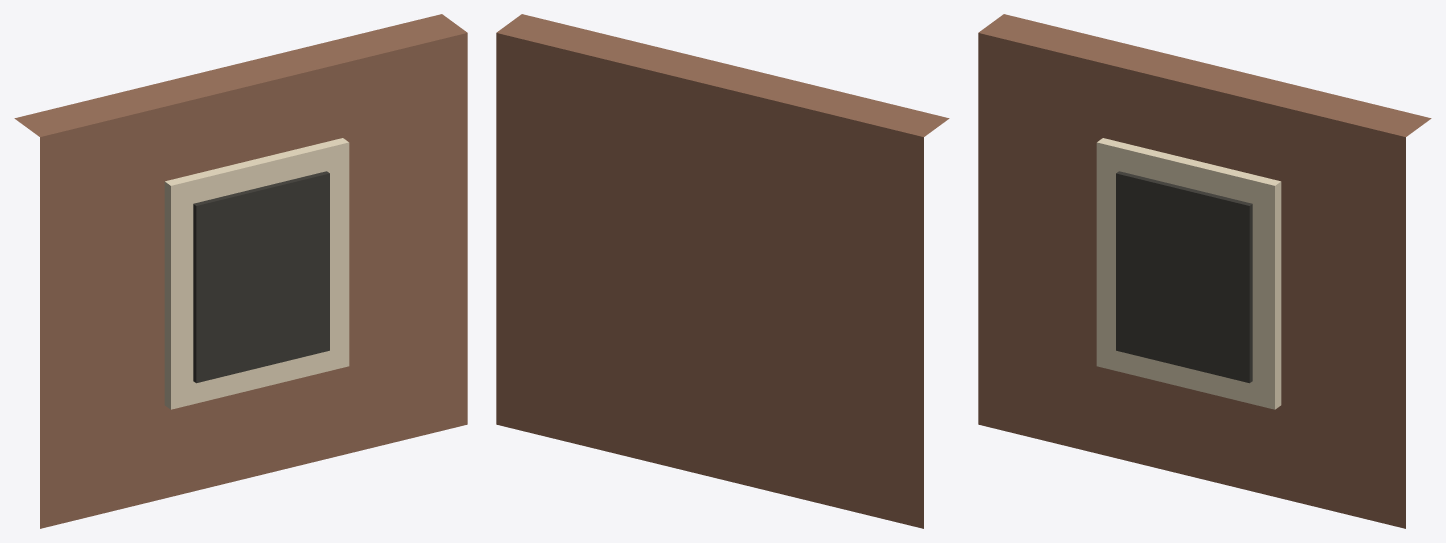
File: dec_house_brick_window.glb
3 views of the same model, side by side, from view 1: azimuth 30°, elevation 25°; view 2: azimuth 150°, elevation 25°; view 3: azimuth 330°, elevation 25° (orthographic).
Visible parts, largest first — view 1: dec_house_brick_window_mesh; view 2: dec_house_brick_window_mesh; view 3: dec_house_brick_window_mesh.
Part boxes in pixels (x1,y1,x2,y2): dec_house_brick_window_mesh: (14, 14, 467, 528); dec_house_brick_window_mesh: (496, 14, 949, 528); dec_house_brick_window_mesh: (978, 14, 1431, 528).
Bounding box in the file's own units: 0.48 × 0.42 × 0.068.
1 material, 1 textured.
